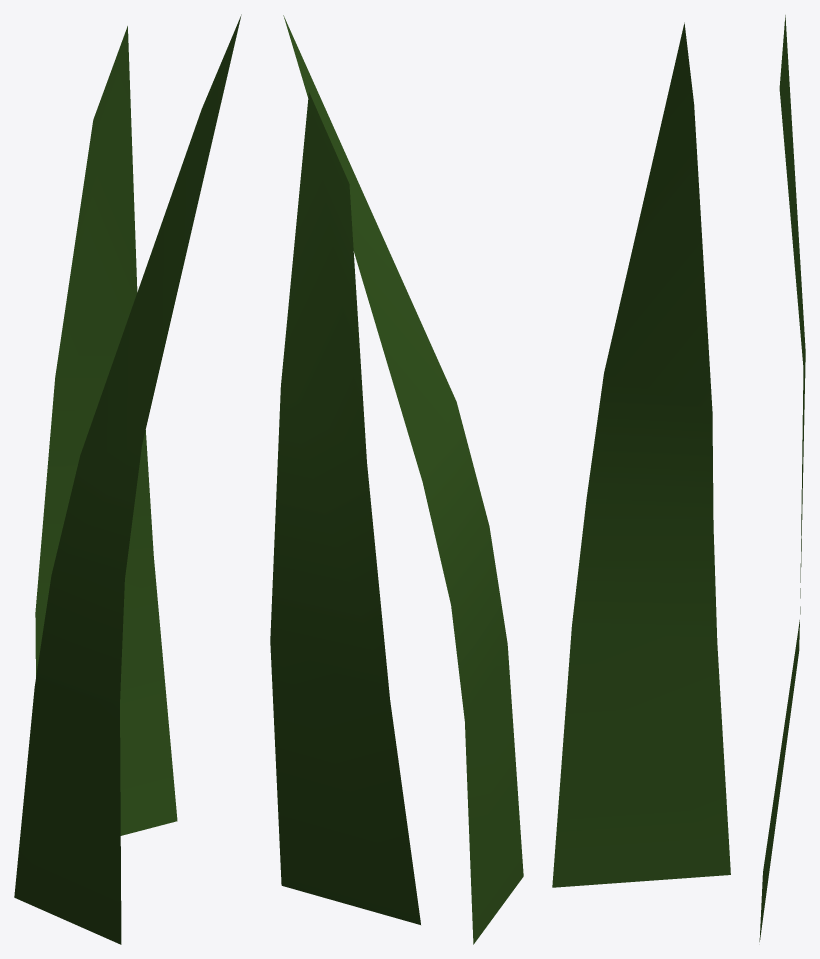
Rendered from cesped9.glb.
The picture shows the model from 3 angles, left to right: view 1: azimuth 30°, elevation 25°; view 2: azimuth 150°, elevation 25°; view 3: azimuth 270°, elevation 25°; orthographic projection. The views are drawn at different scales.
Visible parts, largest first — view 1: cesped9; view 2: cesped9; view 3: cesped9.
Part boxes in pixels (left/top/right/bottom): cesped9: left=14, top=14, right=241, bottom=944; cesped9: left=270, top=15, right=523, bottom=944; cesped9: left=552, top=15, right=805, bottom=941.
Bounding box in the file's own units: 0.1665 × 0.6514 × 0.1545.
